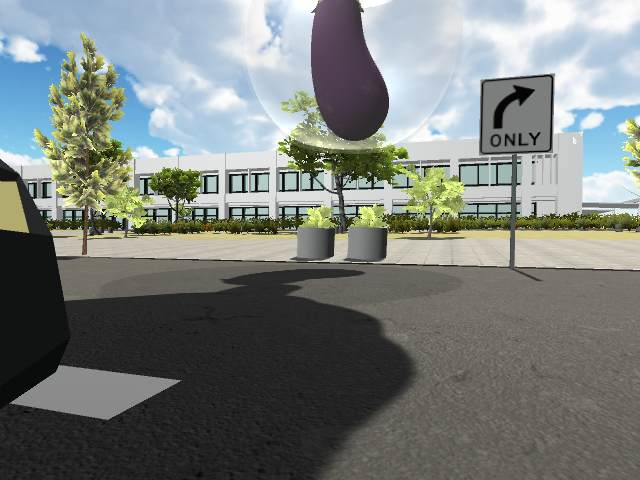arrow_right: (491, 84, 538, 131)
